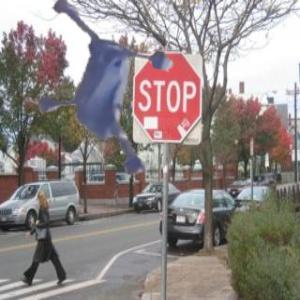drone: (19, 2, 231, 214)
